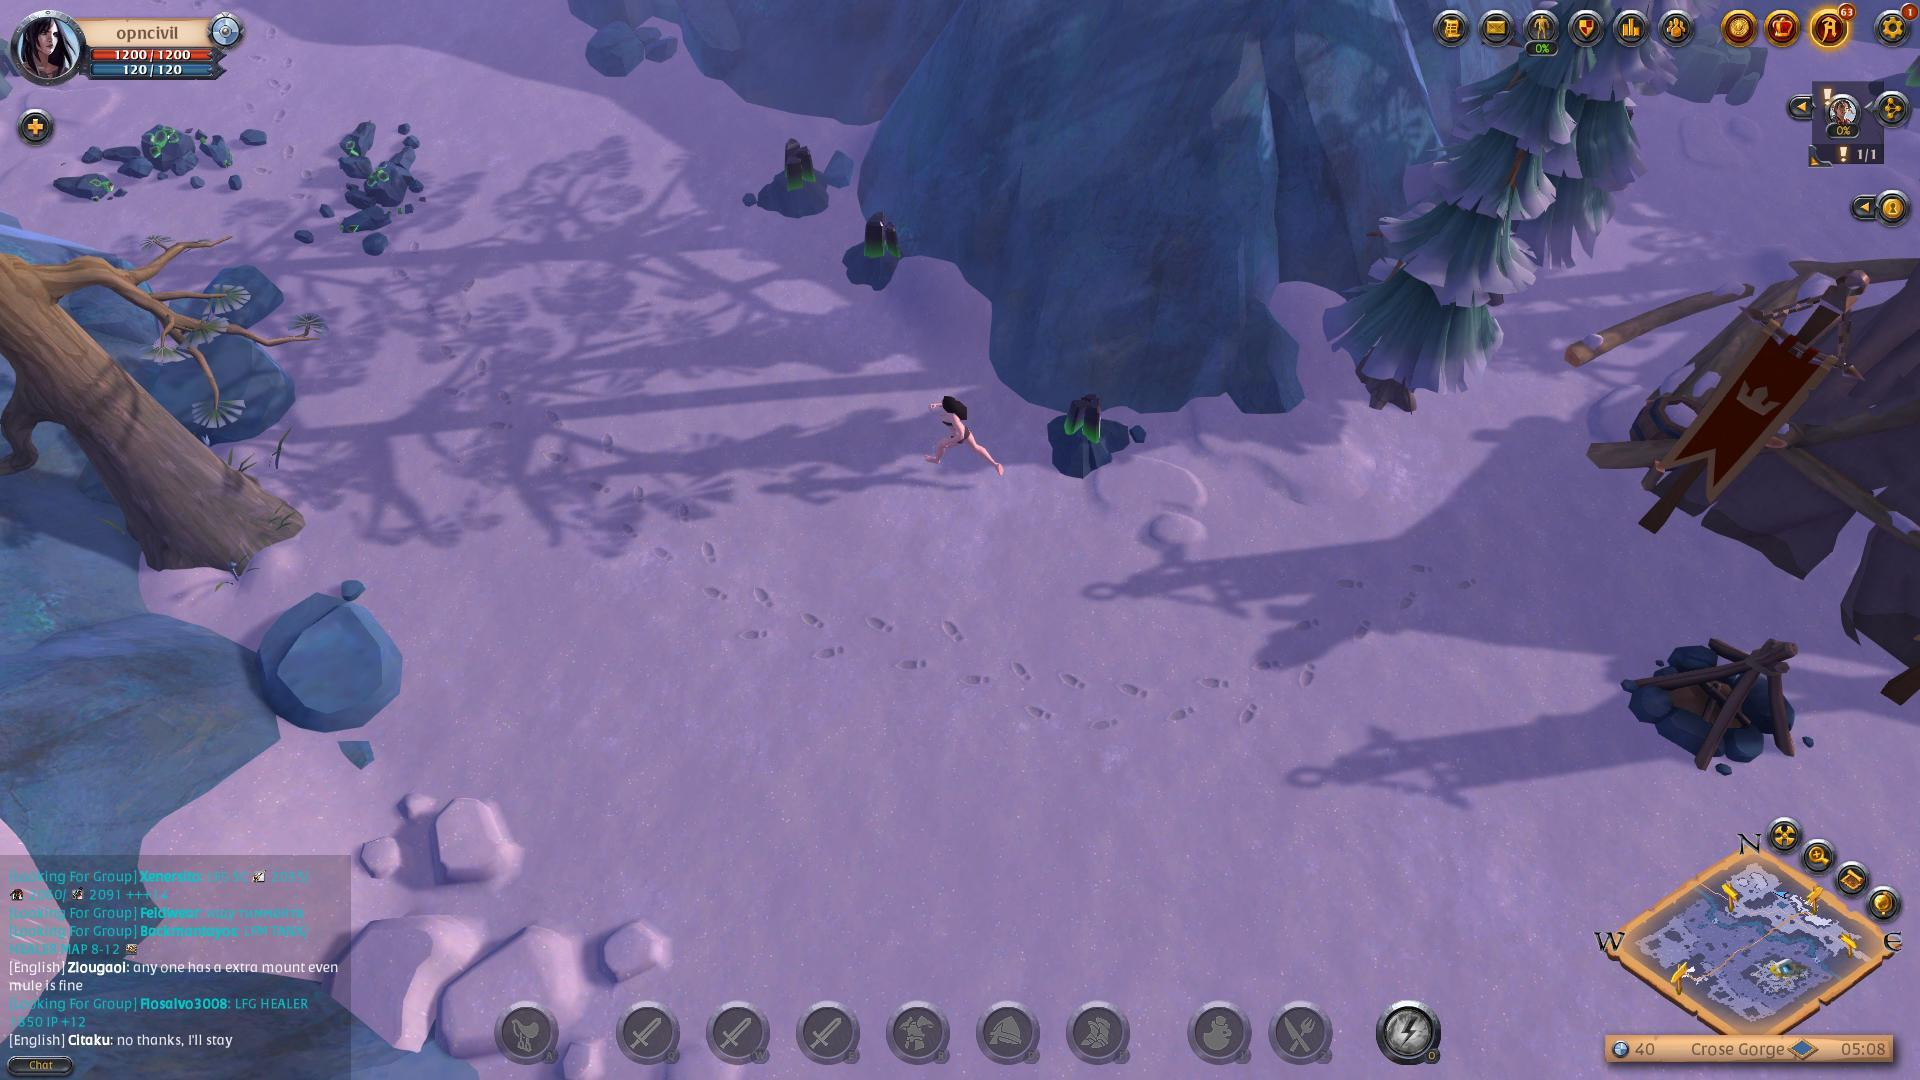tin_ore: (1042, 376, 1147, 484), (756, 127, 844, 233), (840, 202, 913, 295)
